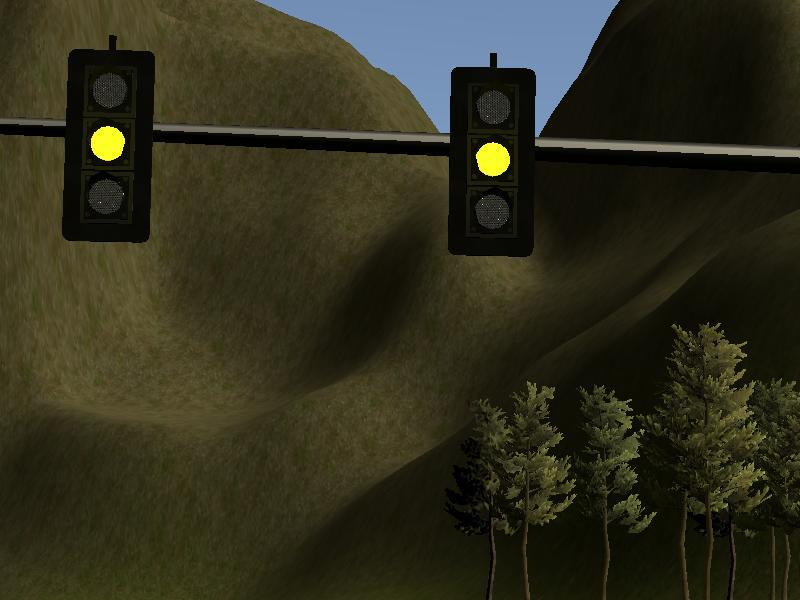Yellow: (62, 48, 155, 243), (447, 66, 536, 257)
